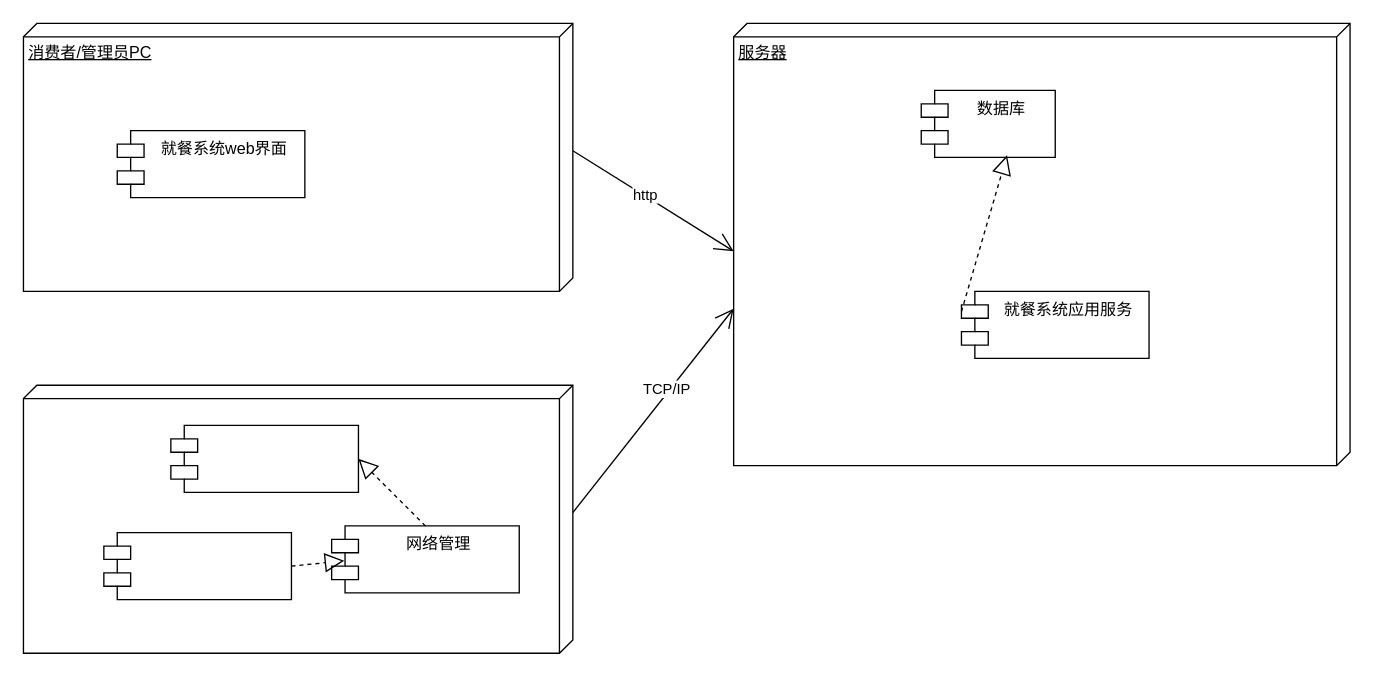
Some shapes in this 1374 by 677 pixel diagram are drawn without their labels. Each missing label, with the box of its shape:
收款机: (22, 384, 573, 653)
数字键: (103, 531, 291, 600)
显示屏: (170, 424, 358, 492)
